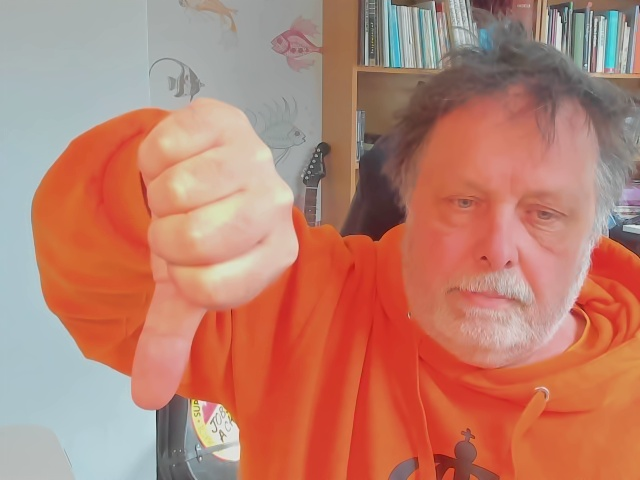thumbs_down: (130, 92, 301, 410)
